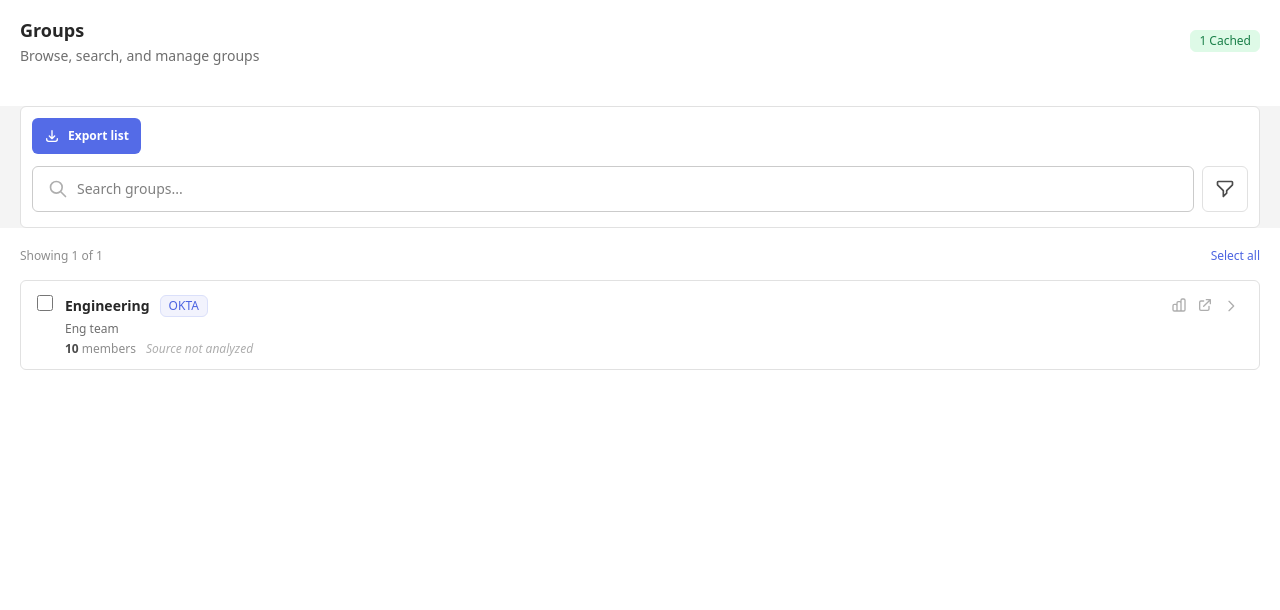
Test: GroupsTab sub-navigation › runs the analysis straight away when the push came from a row's analyze action
The image size is (1280, 610).
Click the button named "Analyze member source" at (1179, 305), box [1167,293,1191,317]
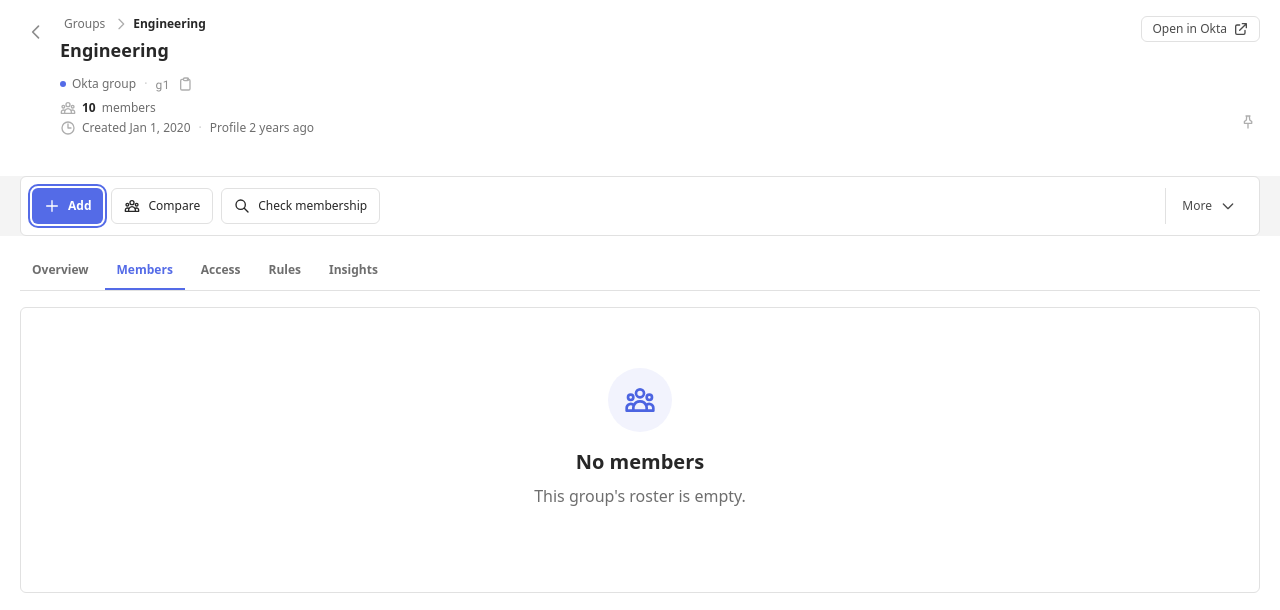
Expected: the text "This group's roster is empty." is shown, [534,485,746,507]
